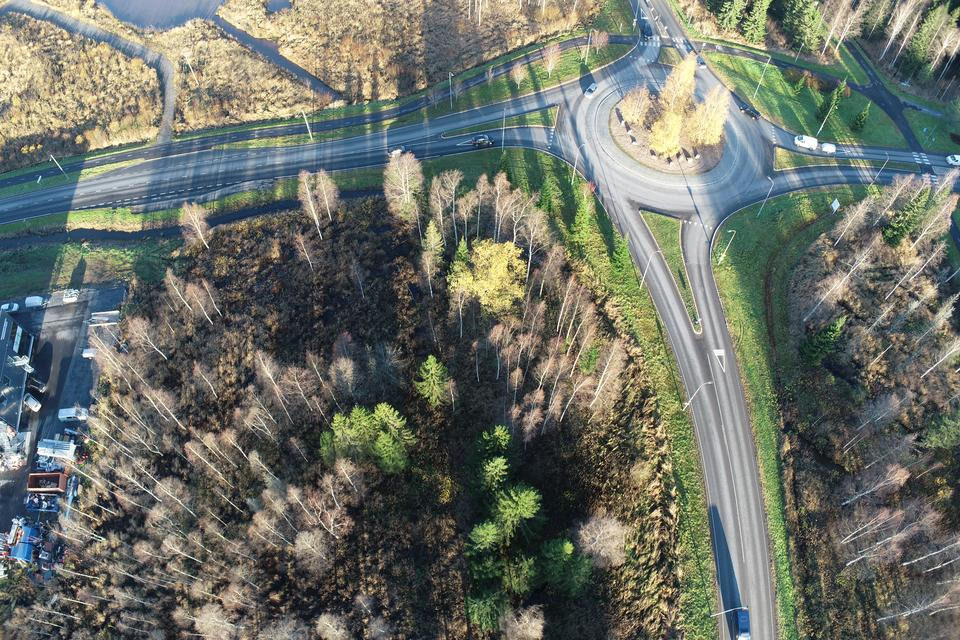intersection: (140, 115, 187, 207), (900, 139, 947, 197), (627, 27, 707, 53)
roundabout: (552, 56, 790, 230)
